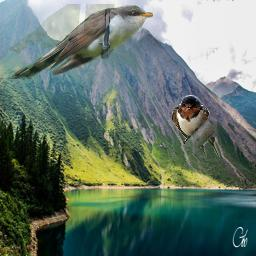Cuckoo: (9, 4, 153, 79)
Swallow: (172, 95, 220, 158)
